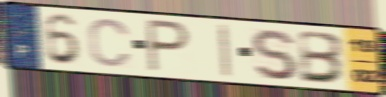6: (43, 12, 81, 67)
B: (298, 28, 348, 86)
C: (87, 17, 134, 69)
I: (216, 23, 234, 80)
P: (145, 17, 192, 75)
S: (249, 27, 300, 82)
